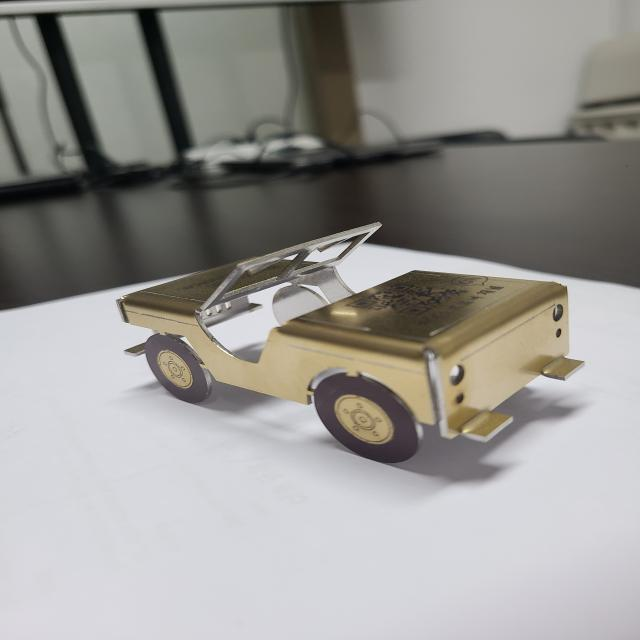tire: (317, 374, 422, 462), (143, 334, 211, 403)
